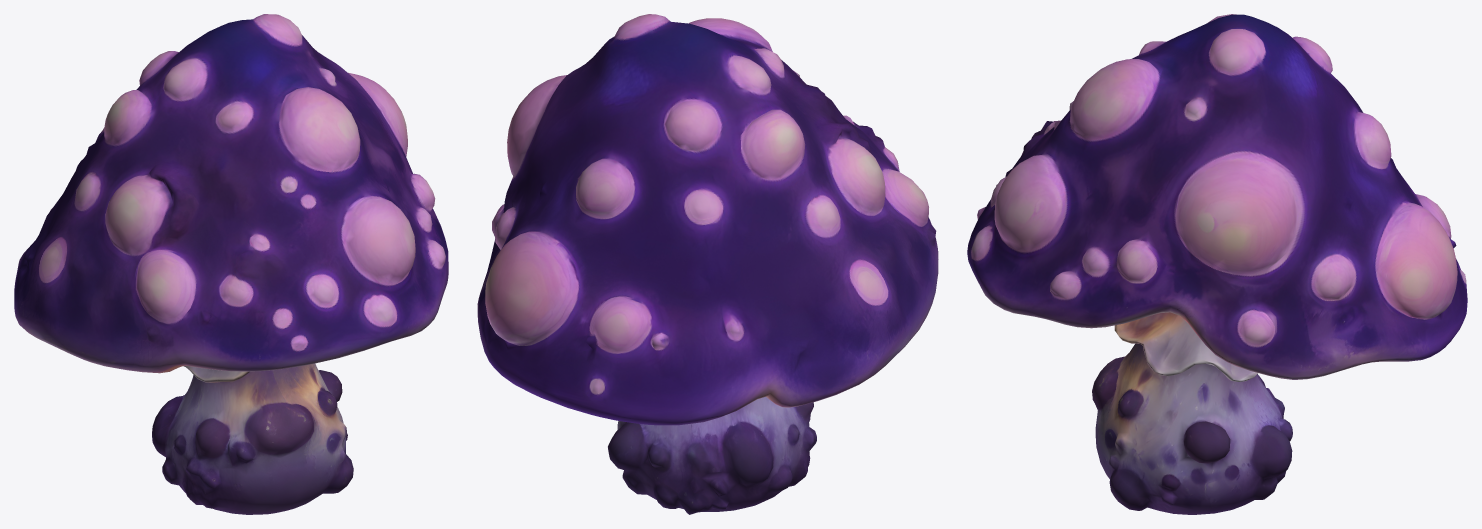
Rendered from toxic_mushroom_3d.r1.glb.
3 renders of one model, left to right at view 1: azimuth 30°, elevation 25°; view 2: azimuth 150°, elevation 25°; view 3: azimuth 270°, elevation 25°, orthographic. The views are drawn at different scales.
Visible parts, largest first — view 1: tripo_node_4055bfe0-8df7-487c-8f85-f6f44b87c1a3; view 2: tripo_node_4055bfe0-8df7-487c-8f85-f6f44b87c1a3; view 3: tripo_node_4055bfe0-8df7-487c-8f85-f6f44b87c1a3.
Part boxes in pixels (left/top/right/bottom): tripo_node_4055bfe0-8df7-487c-8f85-f6f44b87c1a3: left=14, top=14, right=448, bottom=514; tripo_node_4055bfe0-8df7-487c-8f85-f6f44b87c1a3: left=477, top=14, right=938, bottom=514; tripo_node_4055bfe0-8df7-487c-8f85-f6f44b87c1a3: left=967, top=14, right=1467, bottom=514.
Bounding box in the file's own units: 0.8493 × 1 × 0.9363.
1 material, 1 textured.
